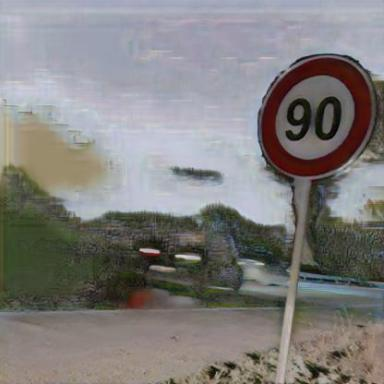Speed_limit_90: (257, 64, 374, 172)
